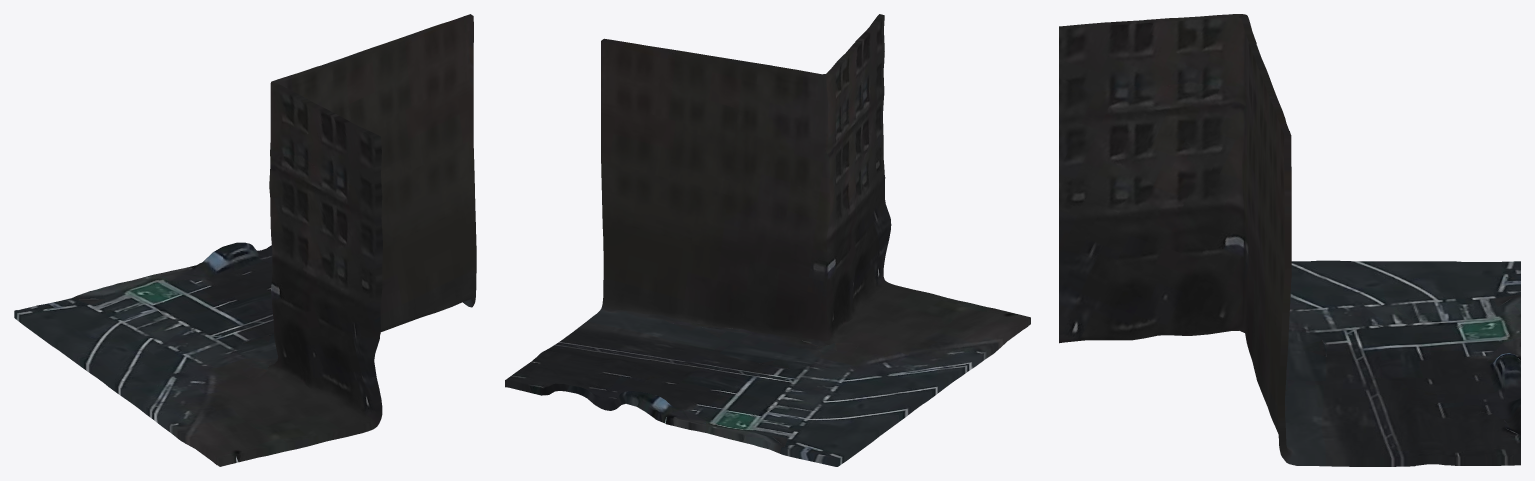
File: z20-167773-405235-h0-yup-uvflip-v3-world.glb
The picture shows the model from 3 angles, left to right: view 1: azimuth 30°, elevation 25°; view 2: azimuth 150°, elevation 25°; view 3: azimuth 270°, elevation 25°; orthographic projection. The views are drawn at different scales.
Size of the model in its own units: 30.16 by 24.04 by 30.32.
1 material, 1 textured.
